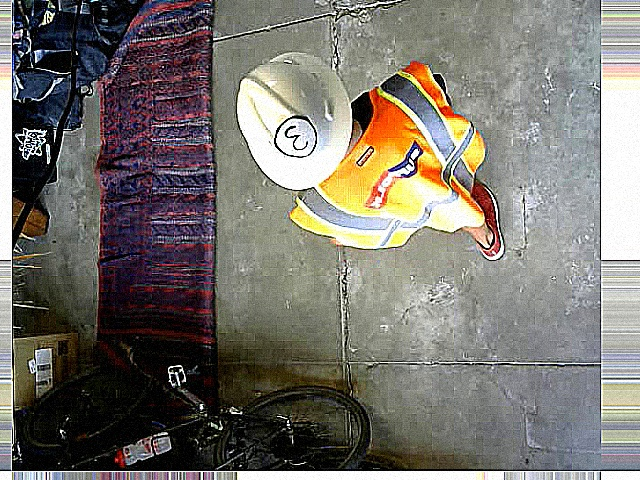three: (273, 115, 316, 158)
